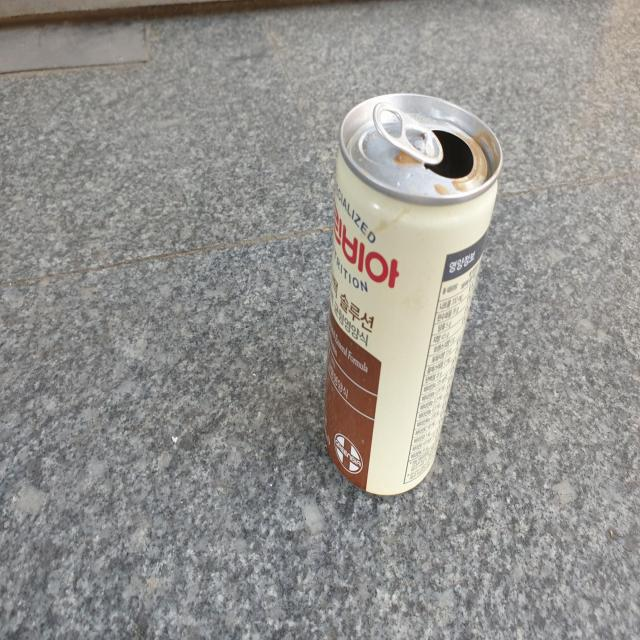can: (325, 93, 503, 495)
